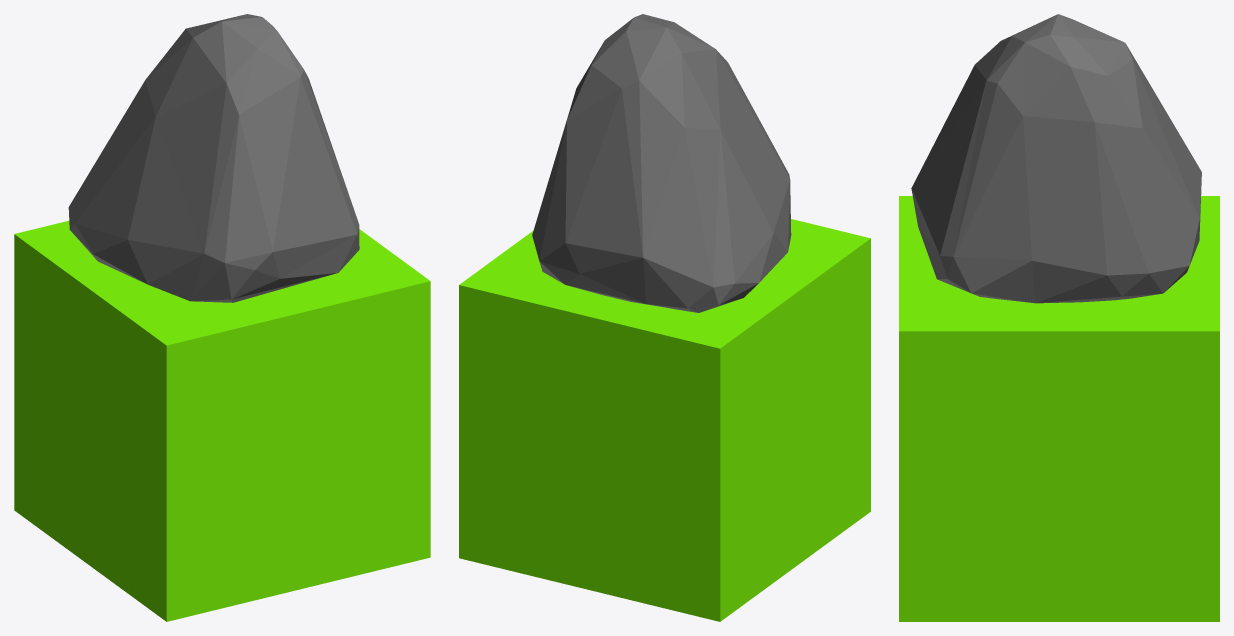
The model's file is rockDirt.dae.
3 renders of one model, left to right at view 1: azimuth 30°, elevation 25°; view 2: azimuth 150°, elevation 25°; view 3: azimuth 270°, elevation 25°, orthographic. The views are drawn at different scales.
Parts seen in each view (by area): view 1: RockDirt, Rock; view 2: RockDirt, Rock; view 3: RockDirt, Rock.
Part boxes in pixels (x1=…): RockDirt: x1=14, y1=220, x2=430, y2=621; Rock: x1=68, y1=14, x2=359, y2=302; RockDirt: x1=459, y1=219, x2=870, y2=621; Rock: x1=532, y1=14, x2=791, y2=312; RockDirt: x1=899, y1=196, x2=1219, y2=621; Rock: x1=911, y1=14, x2=1201, y2=303.
Size of the model in its own units: 2 by 2 by 3.71.
